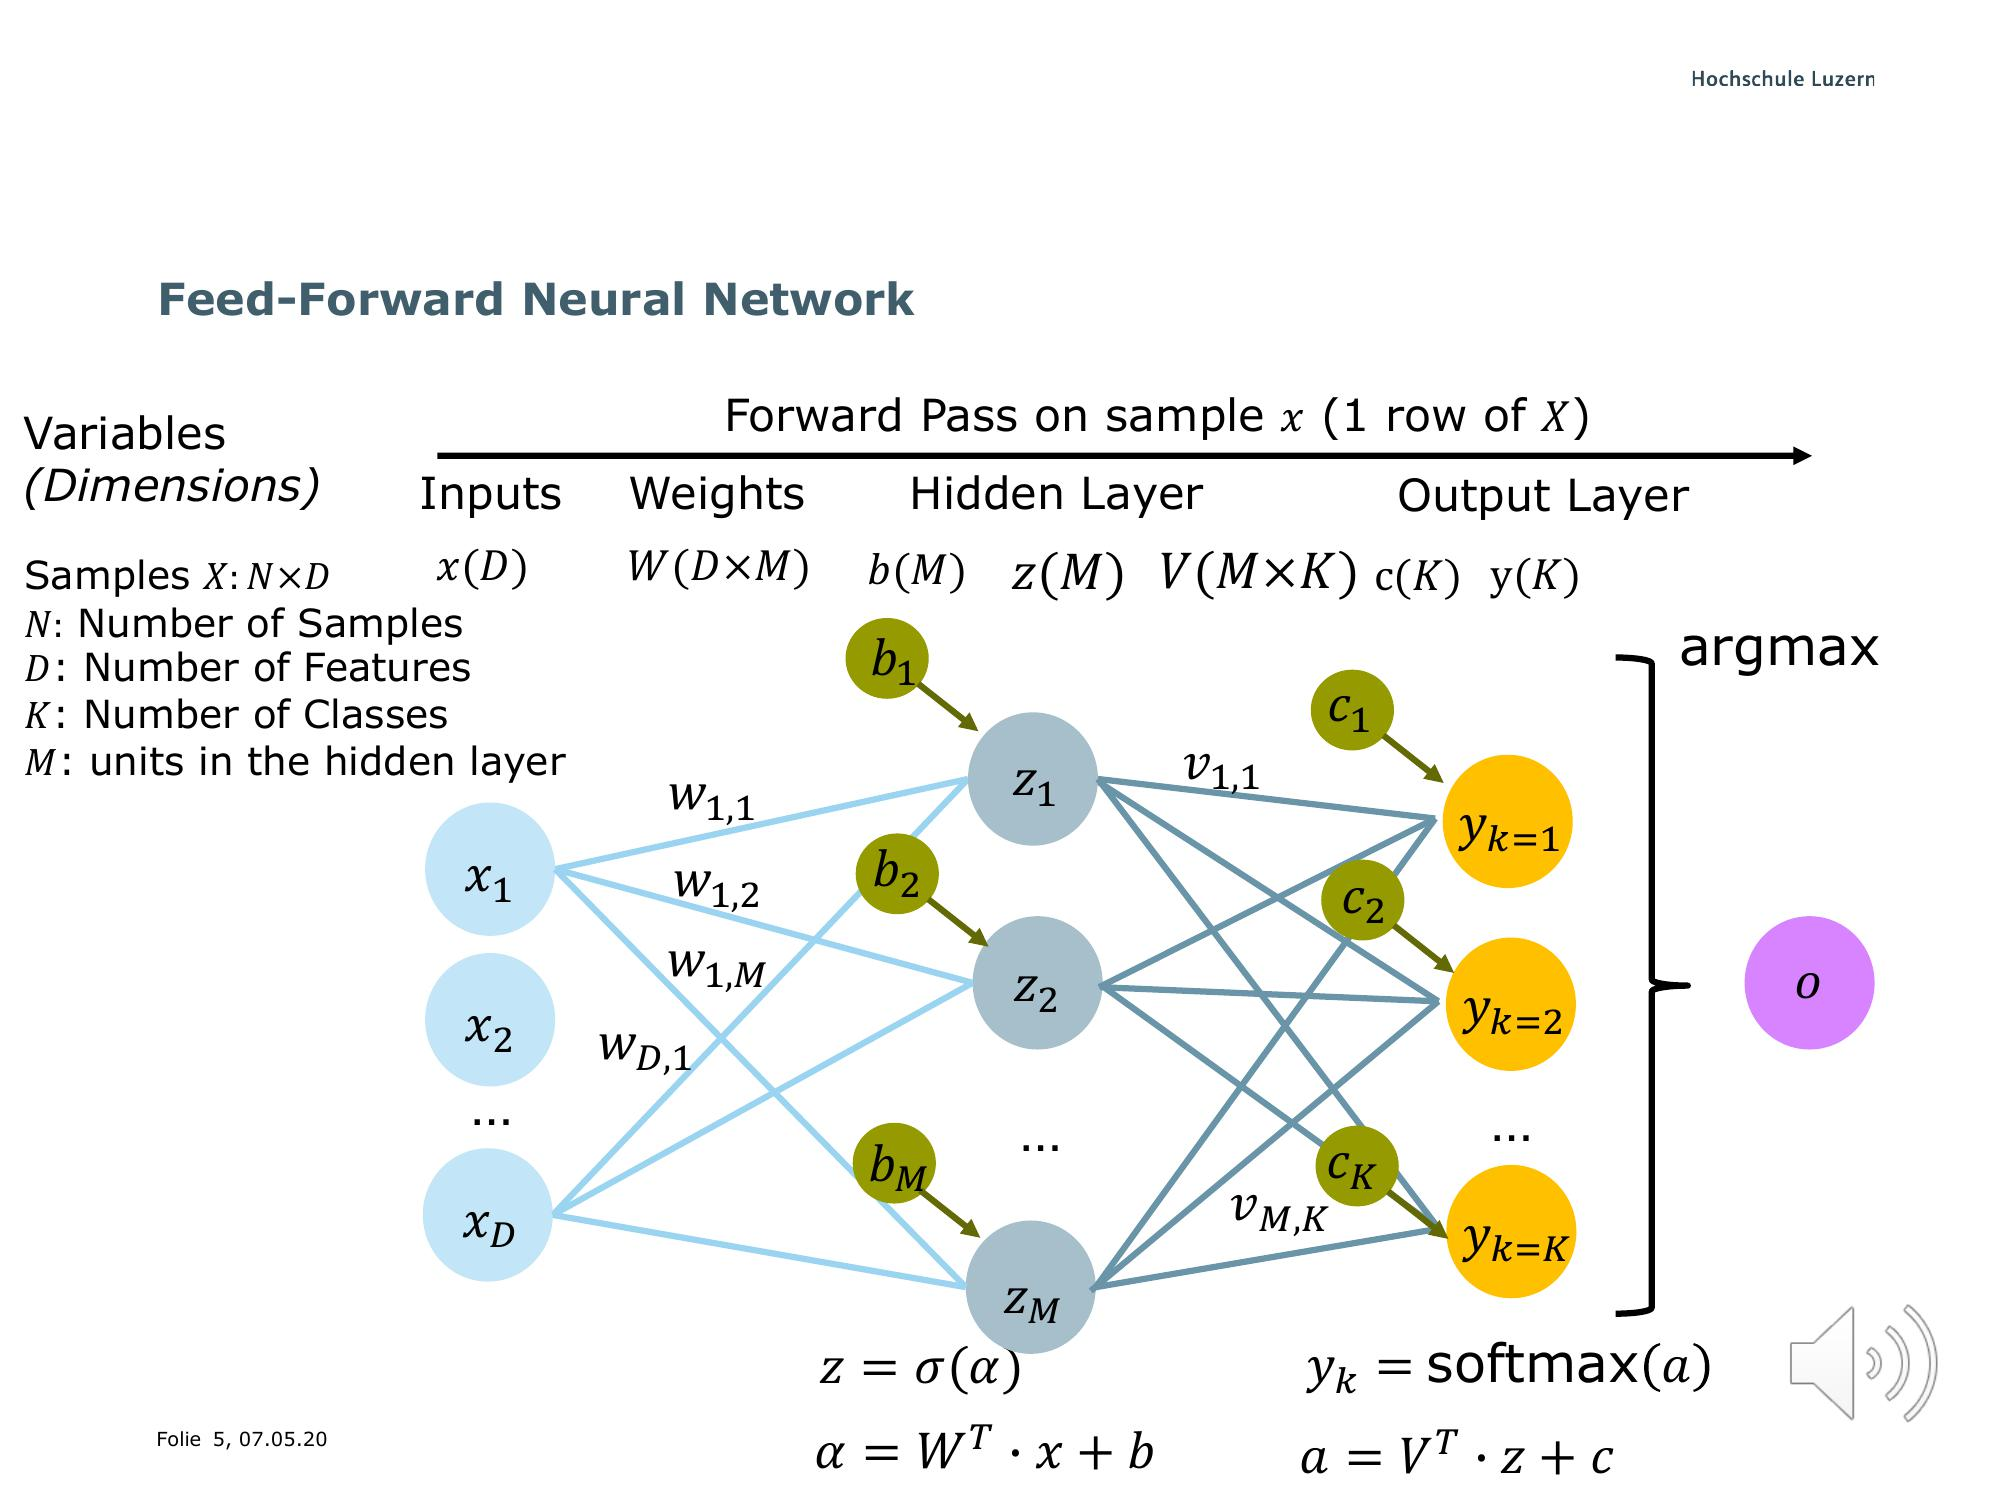Title: (143, 258, 928, 336)
